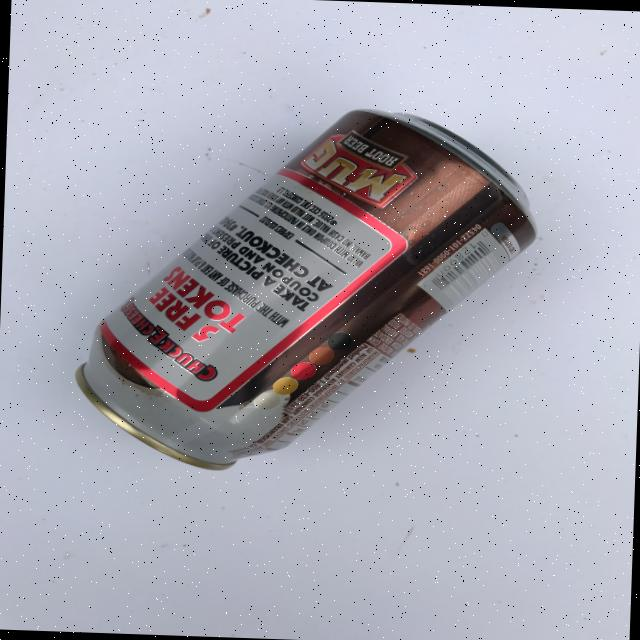metal: (71, 96, 542, 481)
